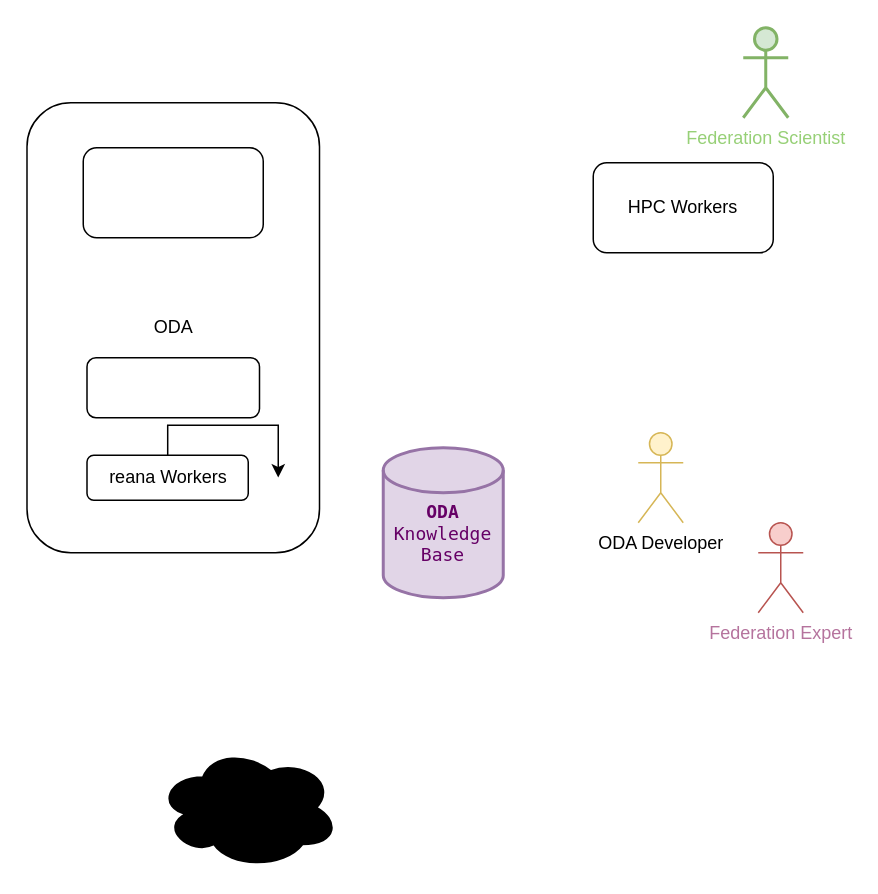
Image size: 878x894. Some labels were removed from this diagram. Each missing label, with the box of its shape:
API Gateway: (82, 146, 263, 238)
AWS: (156, 746, 339, 868)
k8s Workers: (86, 356, 260, 418)
